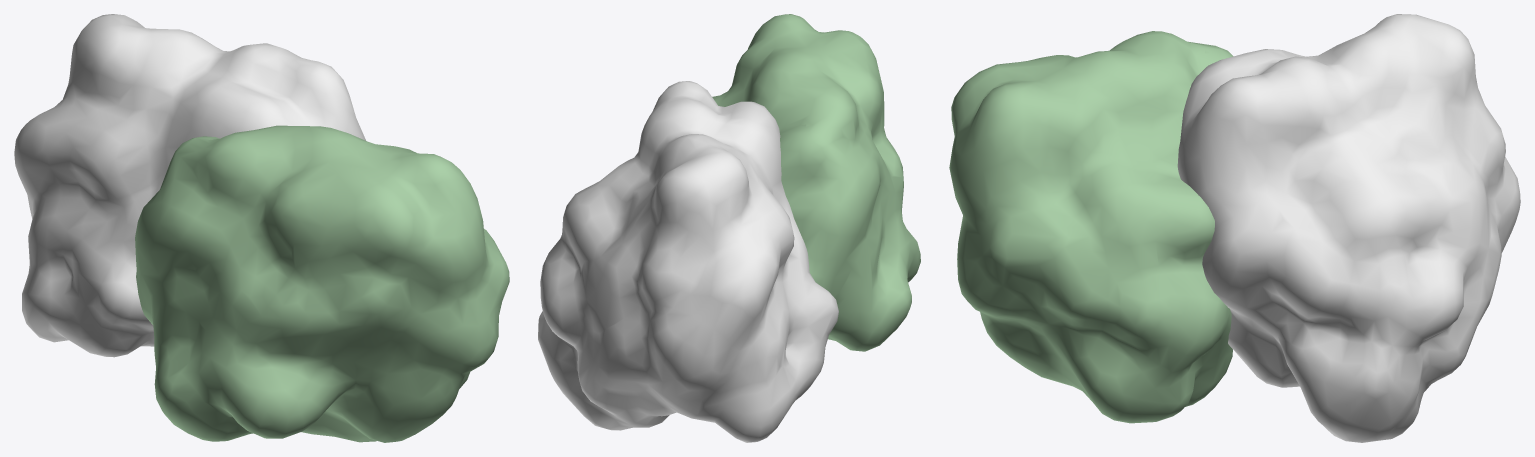
File: Tubulin.fbx
The picture shows the model from 3 angles, left to right: view 1: azimuth 30°, elevation 25°; view 2: azimuth 150°, elevation 25°; view 3: azimuth 270°, elevation 25°; orthographic projection. The views are drawn at different scales.
Visible parts, largest first — view 1: TubulinB, TubulinA; view 2: TubulinA, TubulinB; view 3: TubulinA, TubulinB.
Boxes of the visible parts, x1,y1,x2,y2 form: TubulinB: (135,125,509,442); TubulinA: (14,14,365,357); TubulinA: (538,81,838,442); TubulinB: (712,14,920,351); TubulinA: (1177,14,1520,442); TubulinB: (949,31,1233,423).
Bounding box in the file's own units: 61.92 × 68.11 × 99.16.
